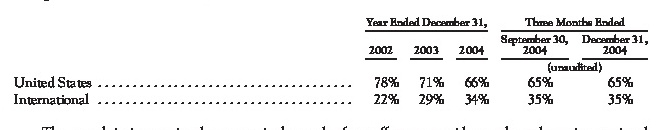table: (0, 0, 661, 130)
